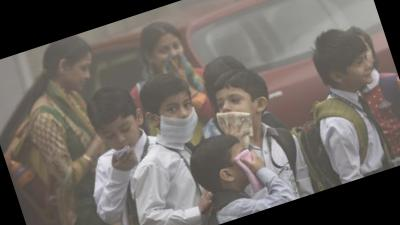mask_weared_incorrect: (154, 95, 203, 150), (150, 36, 191, 76)
with_mask: (225, 146, 262, 193)
without_mask: (213, 87, 258, 134), (98, 116, 146, 158), (340, 50, 377, 91), (68, 57, 100, 93)
